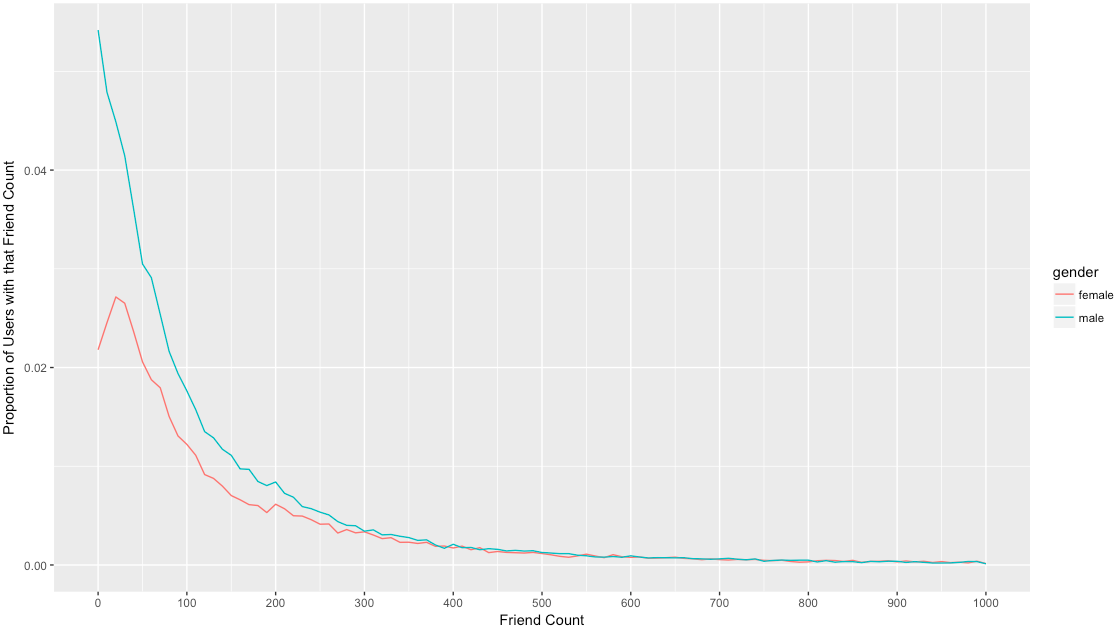

The page's visual inventory and layout, read from the dashboard file:
{"tool":"tableau","page":{"name":"Dashboard 2","canvas":[1000,1000],"units":"permille","ordinal":1},"visuals":[{"type":"worksheet","title":"Sheet 1","mark":"Line","rows":["Rank","Rank"],"cols":["Year"],"box":[0,0,993.9,1000]}]}

Visuals, with their boxes on the dashboard's canvas, which has no fixed pixel size, in thousandths of its width and height (x1, y1, x2, y2). These are canvas units, not pixel positions in the 1117x630 screenshot, which may show the page scaled, cropped or inside an application window:
"Sheet 1" worksheet (Line marks): (0,0,994,1000)
